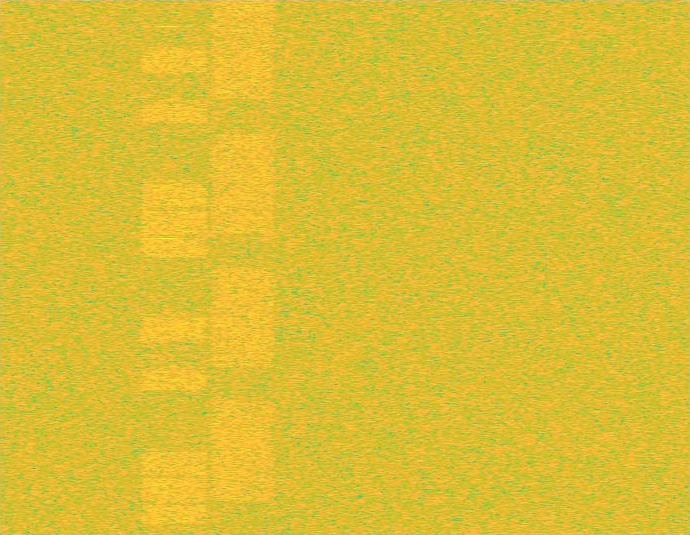5G: (208, 0, 277, 534)
LTE: (139, 0, 208, 534)
Radar: (160, 0, 174, 534)
